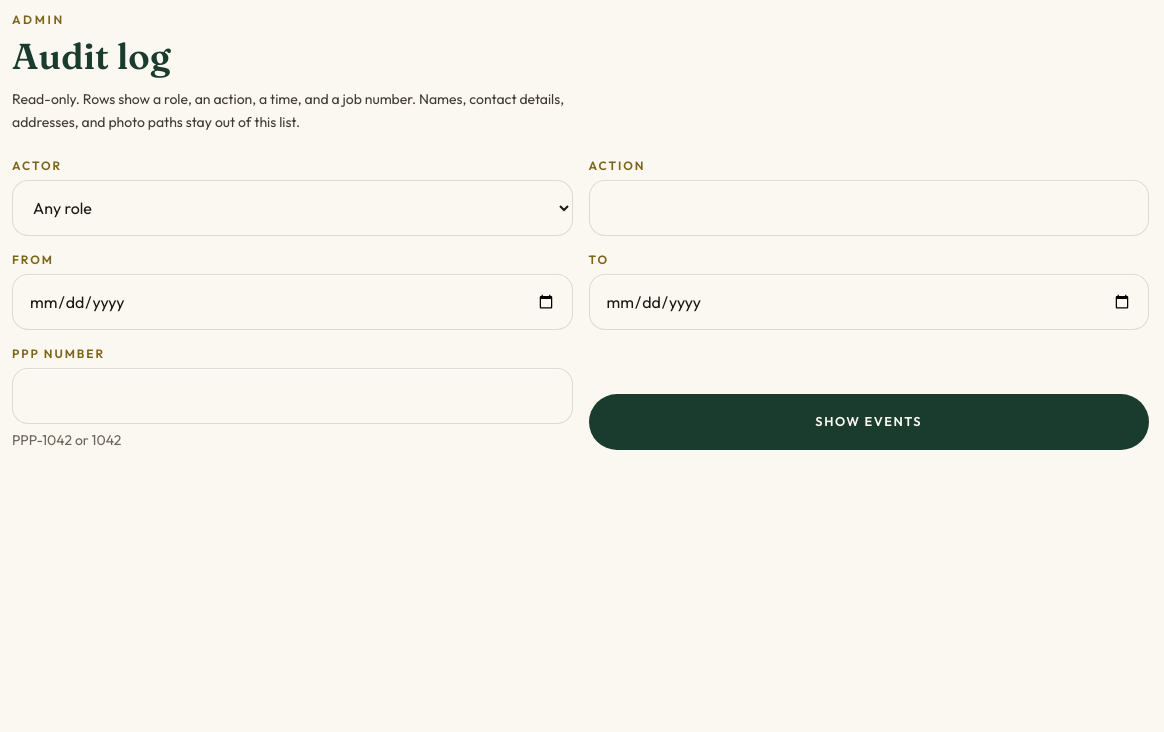
Test: admin audit log page › filters by role, action, date, and PPP number without showing contact or identities
Expected: the heading "Audit log" is shown, [12, 34, 170, 78]
Expected: the text "photo paths stay out of this list" is shown, [12, 90, 564, 131]
Select "Customer" in the dropdown labelled "Actor" at point(292, 208), box [12, 180, 572, 236]
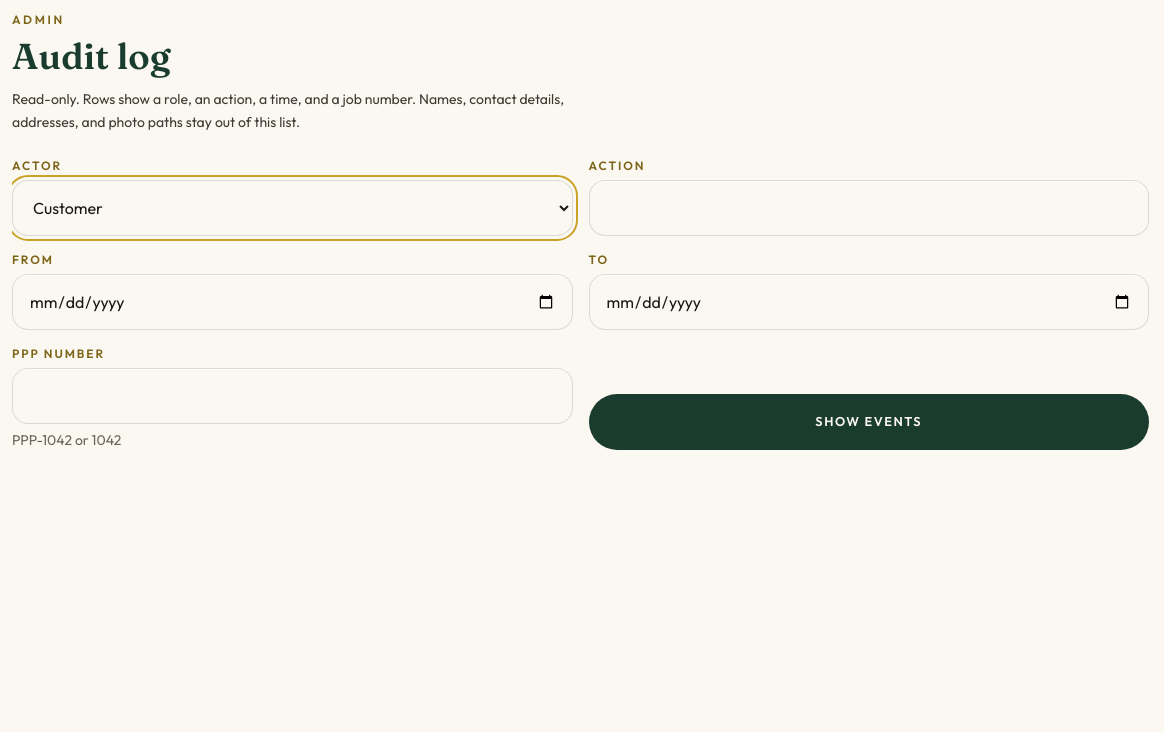
Type "booking.review" into the field labelled "Action" at point(869, 208), box [588, 180, 1149, 236]
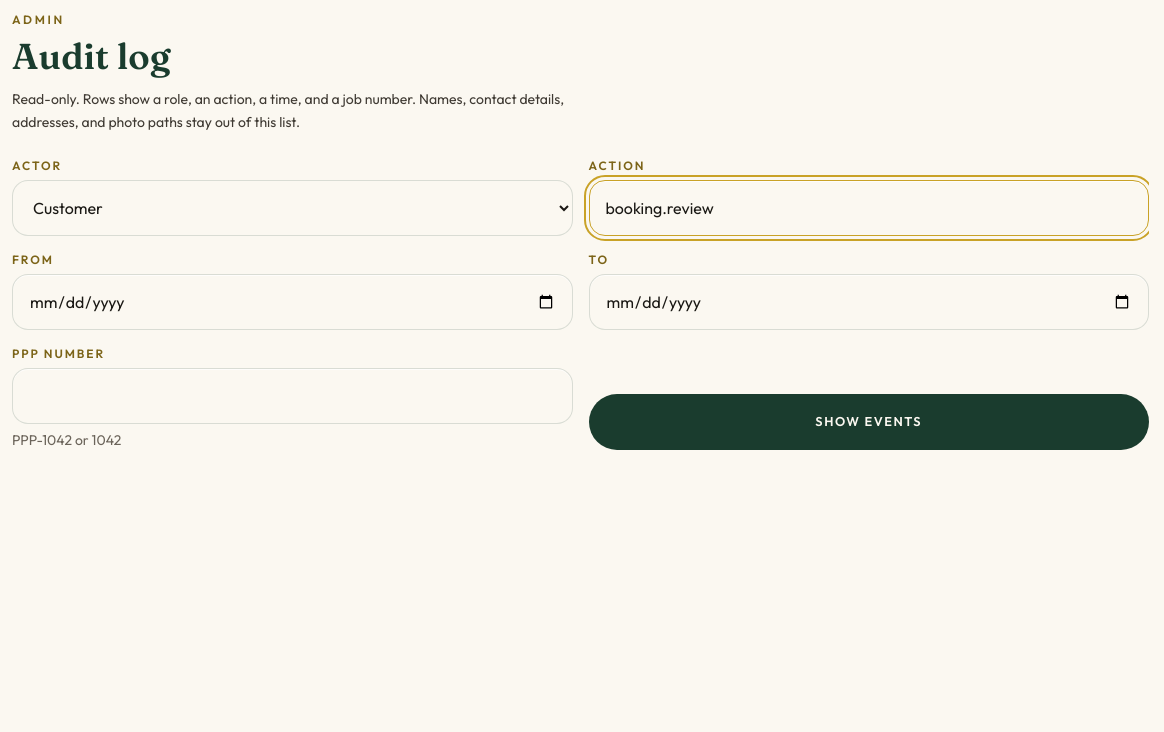
Type "2026-10-01" into the date field labelled "From" at point(292, 302), box [12, 274, 572, 330]
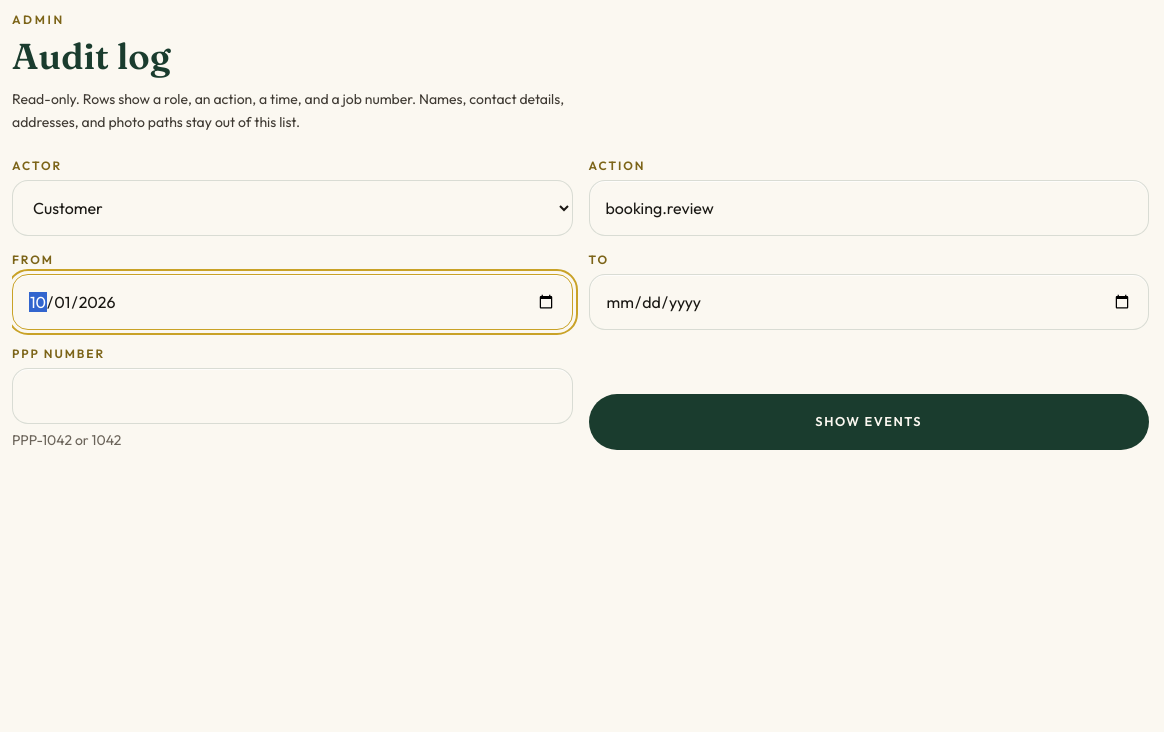
Type "2026-10-11" into the date field labelled "To" at point(869, 302), box [588, 274, 1149, 330]
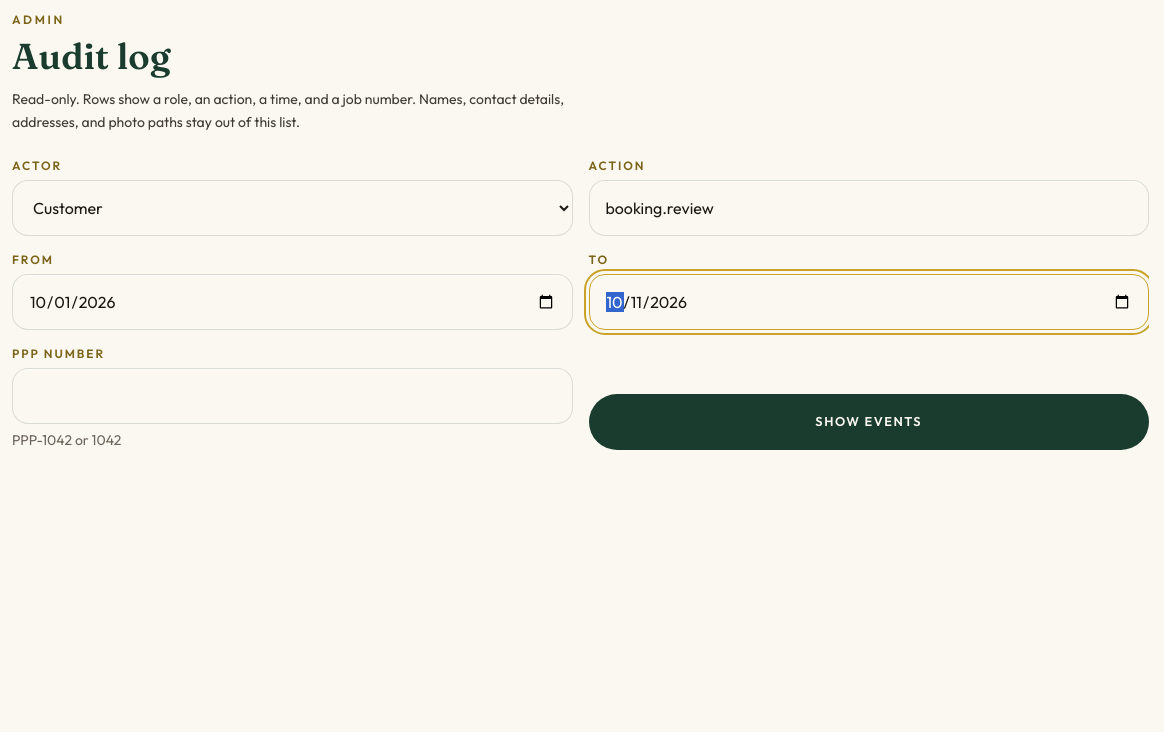
Type "PPP-1042" into the field labelled "PPP number PPP-1042 or 1042" at point(292, 396), box [12, 368, 572, 424]
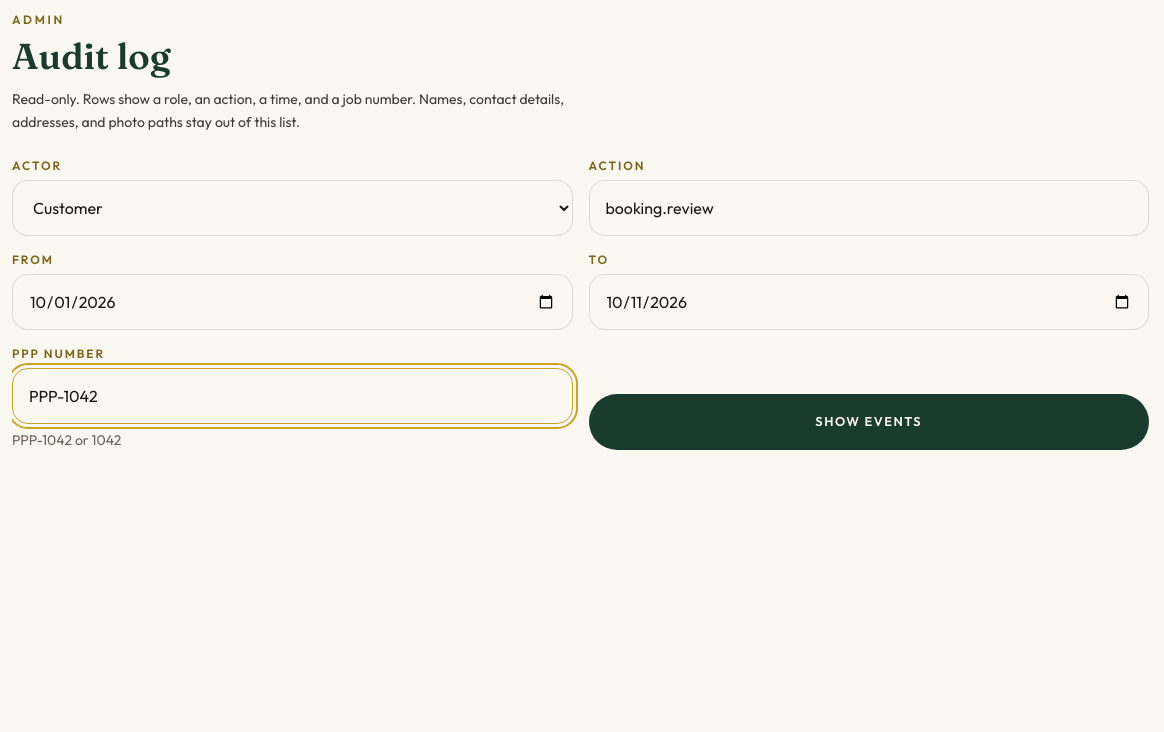
Click the button "Show events" at point(869, 422), box [588, 394, 1149, 450]
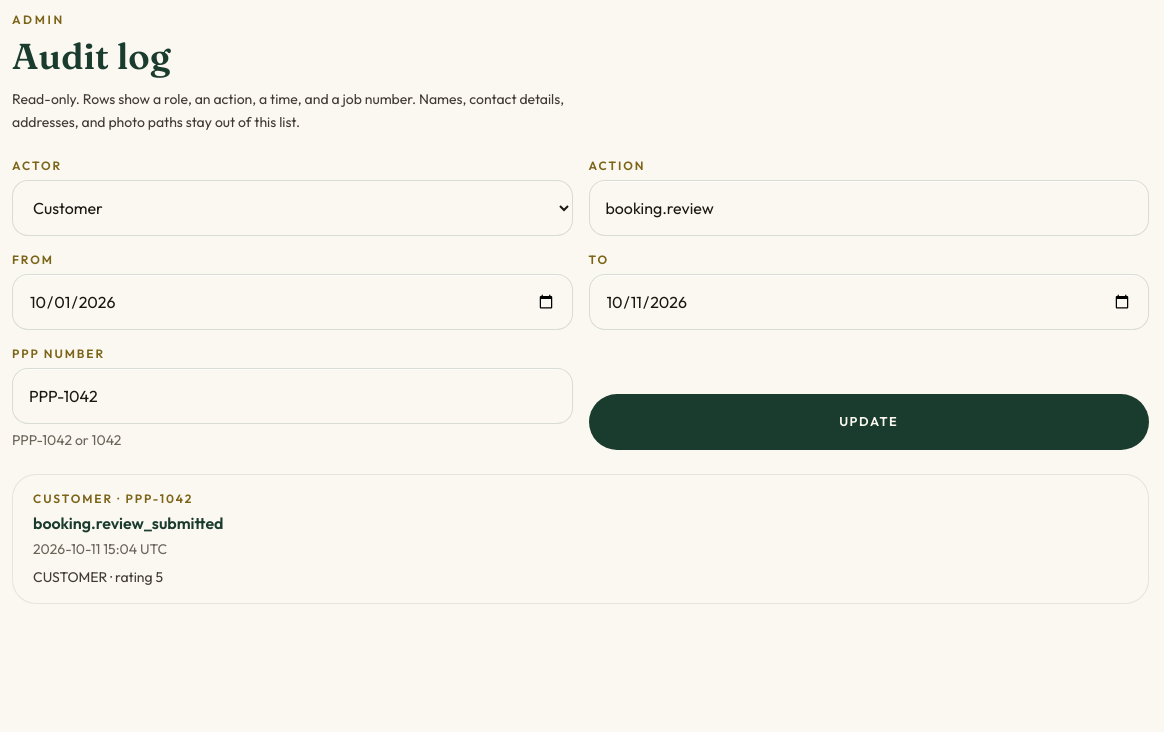
Now the text "booking.review_submitted" is shown, box [33, 512, 224, 532]
Now the text "Customer · PPP-1042" is shown, box [33, 490, 193, 506]
Now the text "CUSTOMER · rating 5" is shown, box [33, 568, 163, 586]
